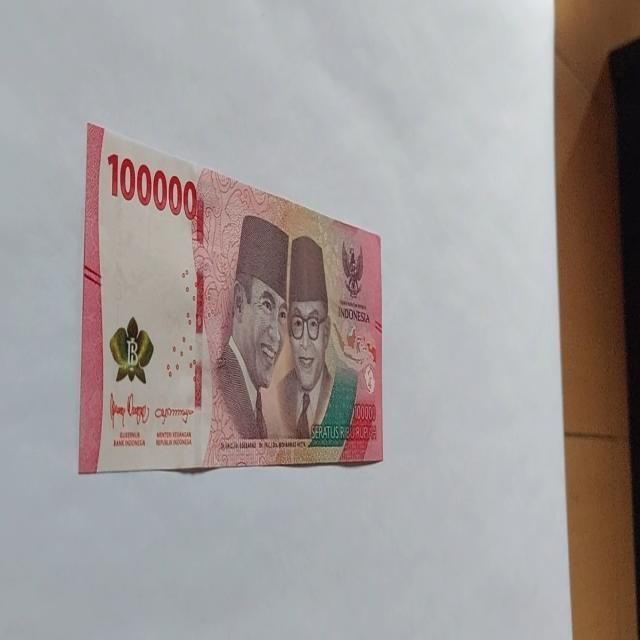seratus ribu rupiah: (78, 121, 384, 474)
